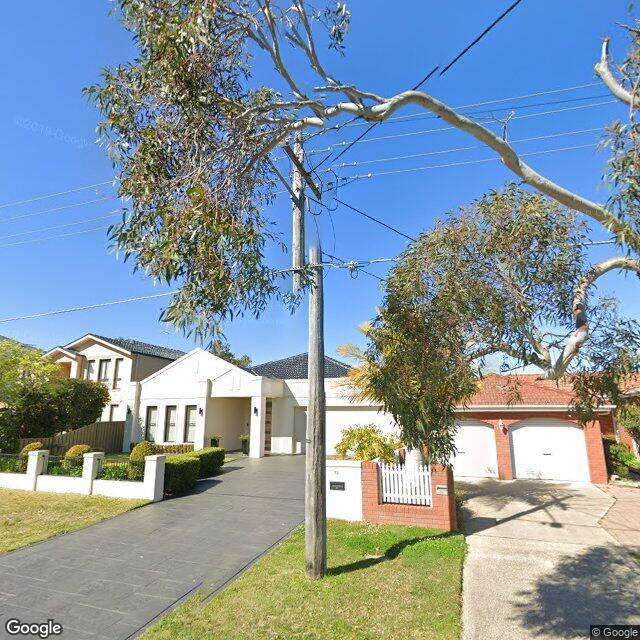crossarm: (281, 140, 323, 199)
timber-pole: (292, 127, 326, 580)
